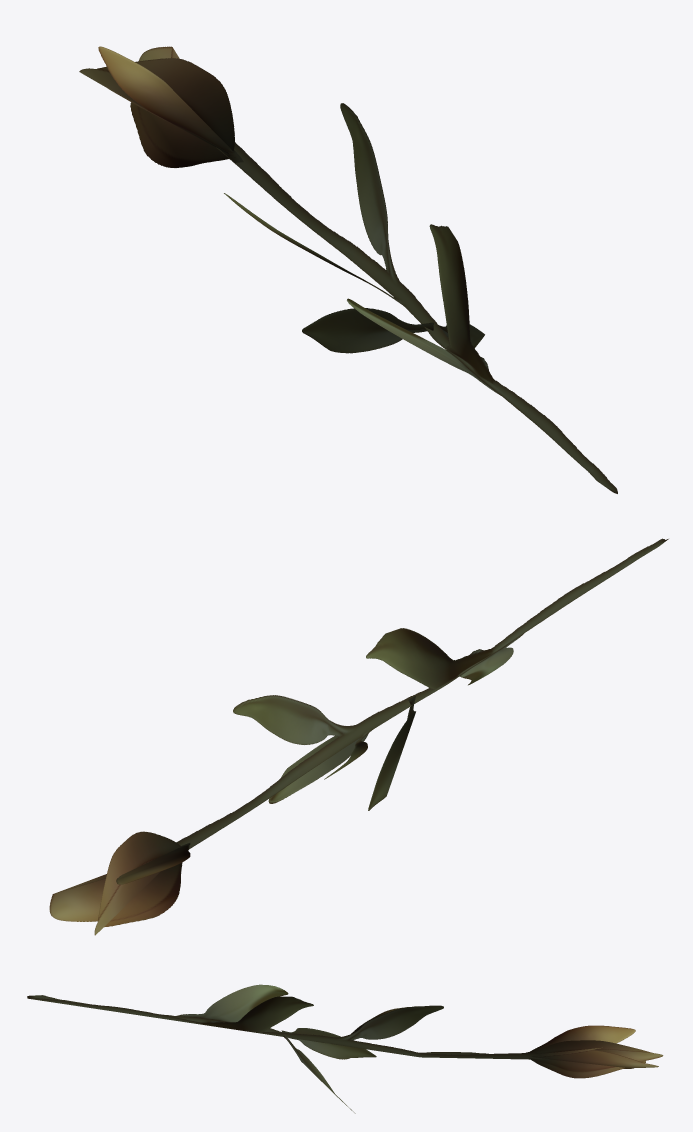
The model's file is TI_Flower_01_2S_a.fbx.
3 renders of one model, top to bottom at view 1: azimuth 30°, elevation 25°; view 2: azimuth 150°, elevation 25°; view 3: azimuth 270°, elevation 25°, orthographic. The views are drawn at different scales.
Visible parts, largest first — view 1: TI_Flower_01_2S_a; view 2: TI_Flower_01_2S_a; view 3: TI_Flower_01_2S_a.
Part boxes in pixels (x1,y1,x2,y2): TI_Flower_01_2S_a: (79,46,617,493); TI_Flower_01_2S_a: (49,538,668,935); TI_Flower_01_2S_a: (27,984,663,1113).
Size of the model in its own units: 0.1591 by 0.1472 by 0.7735.
